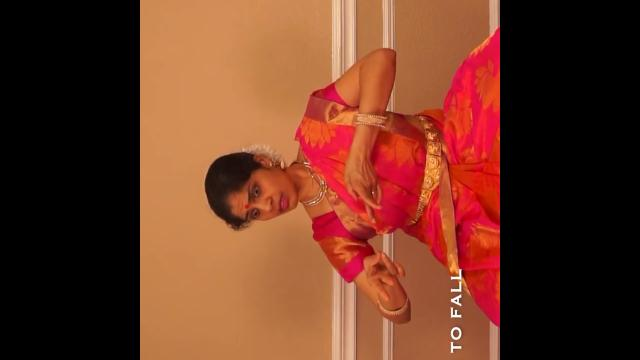kartarimukh: (336, 158, 398, 226), (352, 243, 416, 302)
